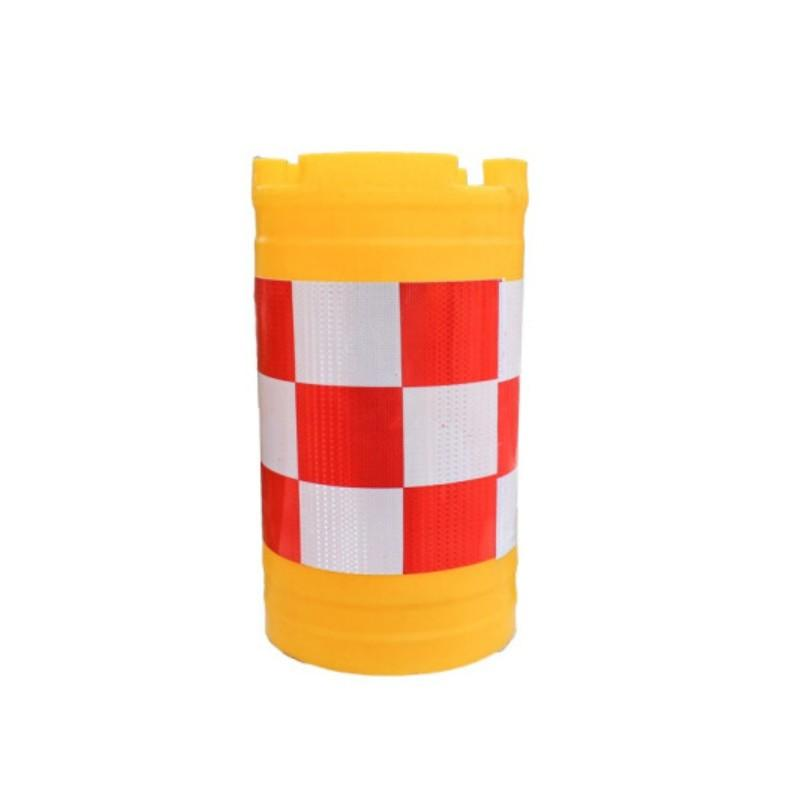sign: (233, 136, 550, 678)
